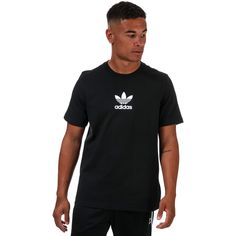adidas Originale: (108, 89, 141, 113)
